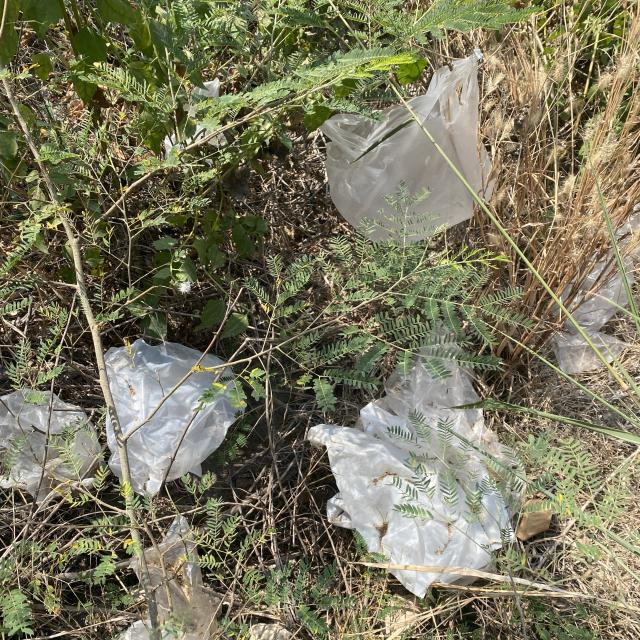Single-layer Plastic: (307, 360, 501, 571), (321, 53, 486, 240), (102, 340, 245, 501), (0, 388, 103, 497)
